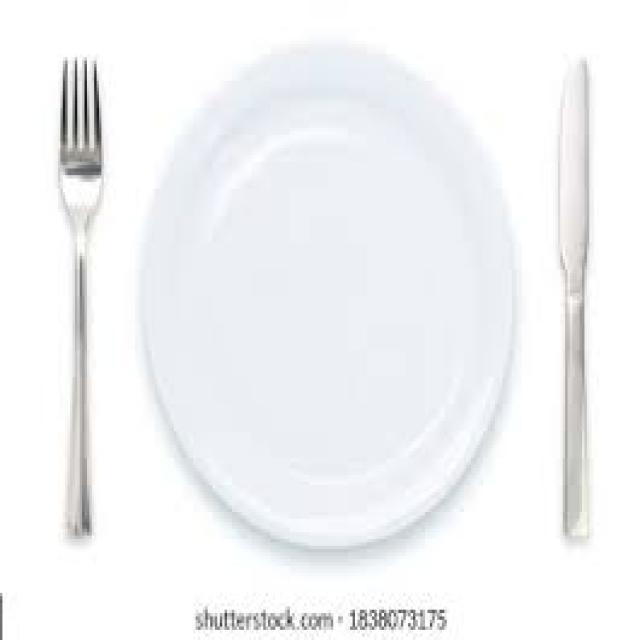Knife: (556, 54, 590, 539)
